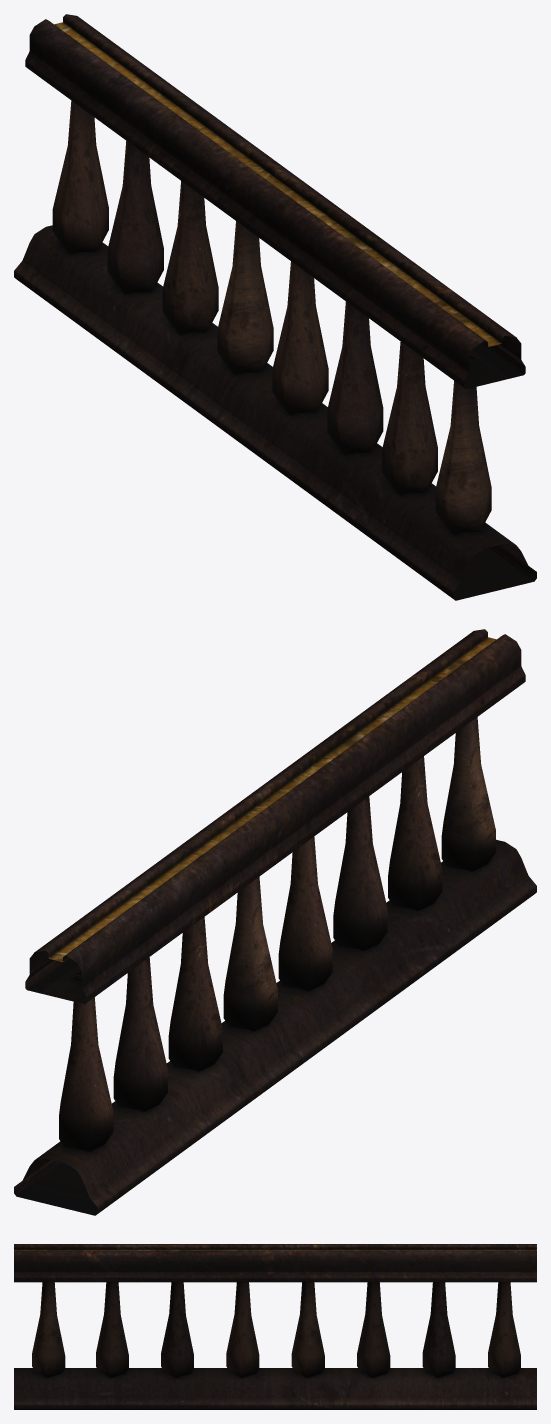
Rendered from railing.dae.
3 views of the same model, one above another, from view 1: azimuth 30°, elevation 25°; view 2: azimuth 150°, elevation 25°; view 3: azimuth 270°, elevation 25° (orthographic). The views are drawn at different scales.
Parts seen in each view (by area): view 1: mansionbase_stairs_railing; view 2: mansionbase_stairs_railing; view 3: mansionbase_stairs_railing.
Boxes of the visible parts, left/top/right/bottom form: mansionbase_stairs_railing: left=14, top=14, right=536, bottom=600; mansionbase_stairs_railing: left=14, top=629, right=536, bottom=1215; mansionbase_stairs_railing: left=14, top=1244, right=536, bottom=1409.
Size of the model in its own units: 0.4404 by 1.27 by 4.
